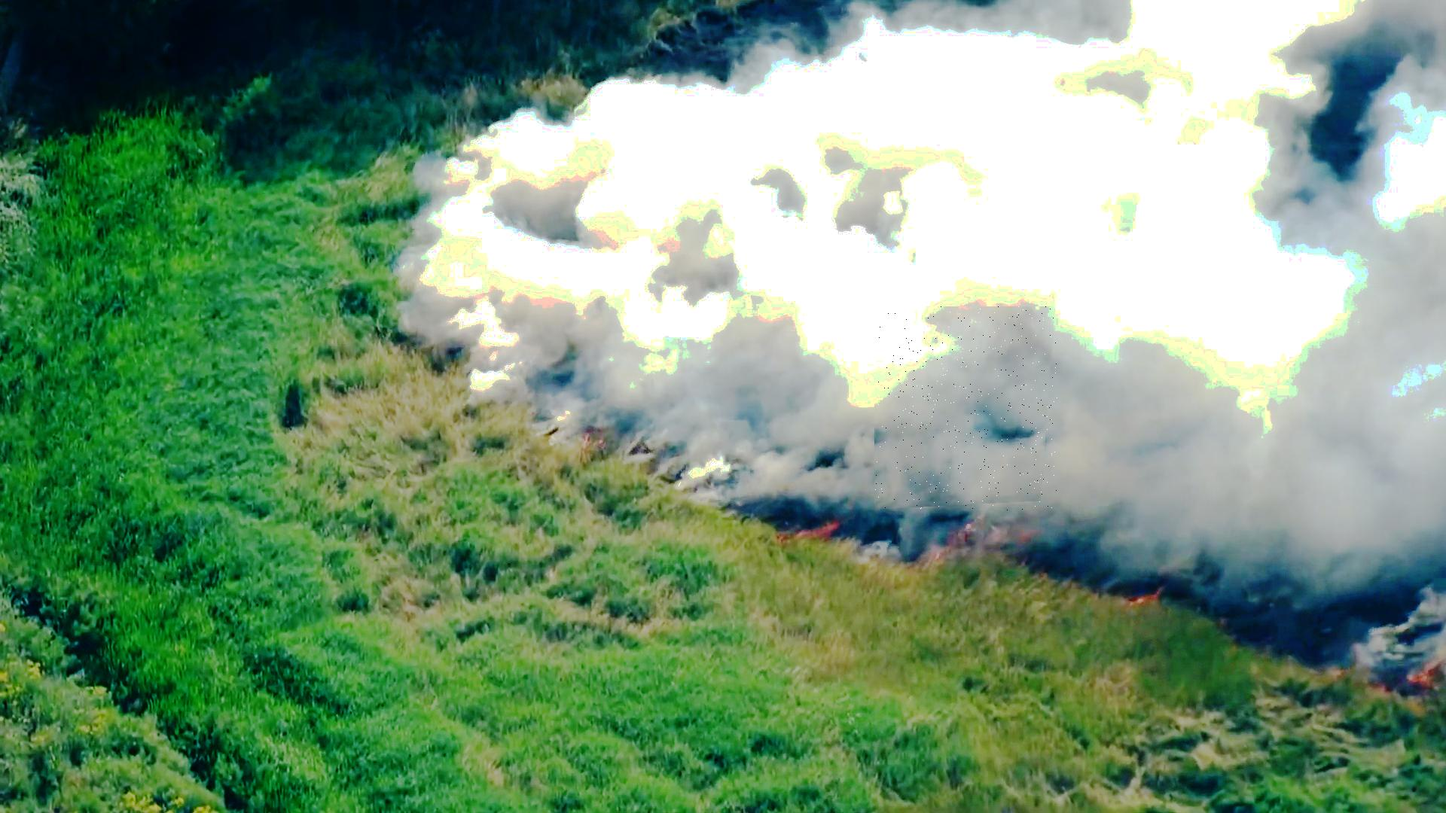smoke: (875, 307, 1058, 511)
